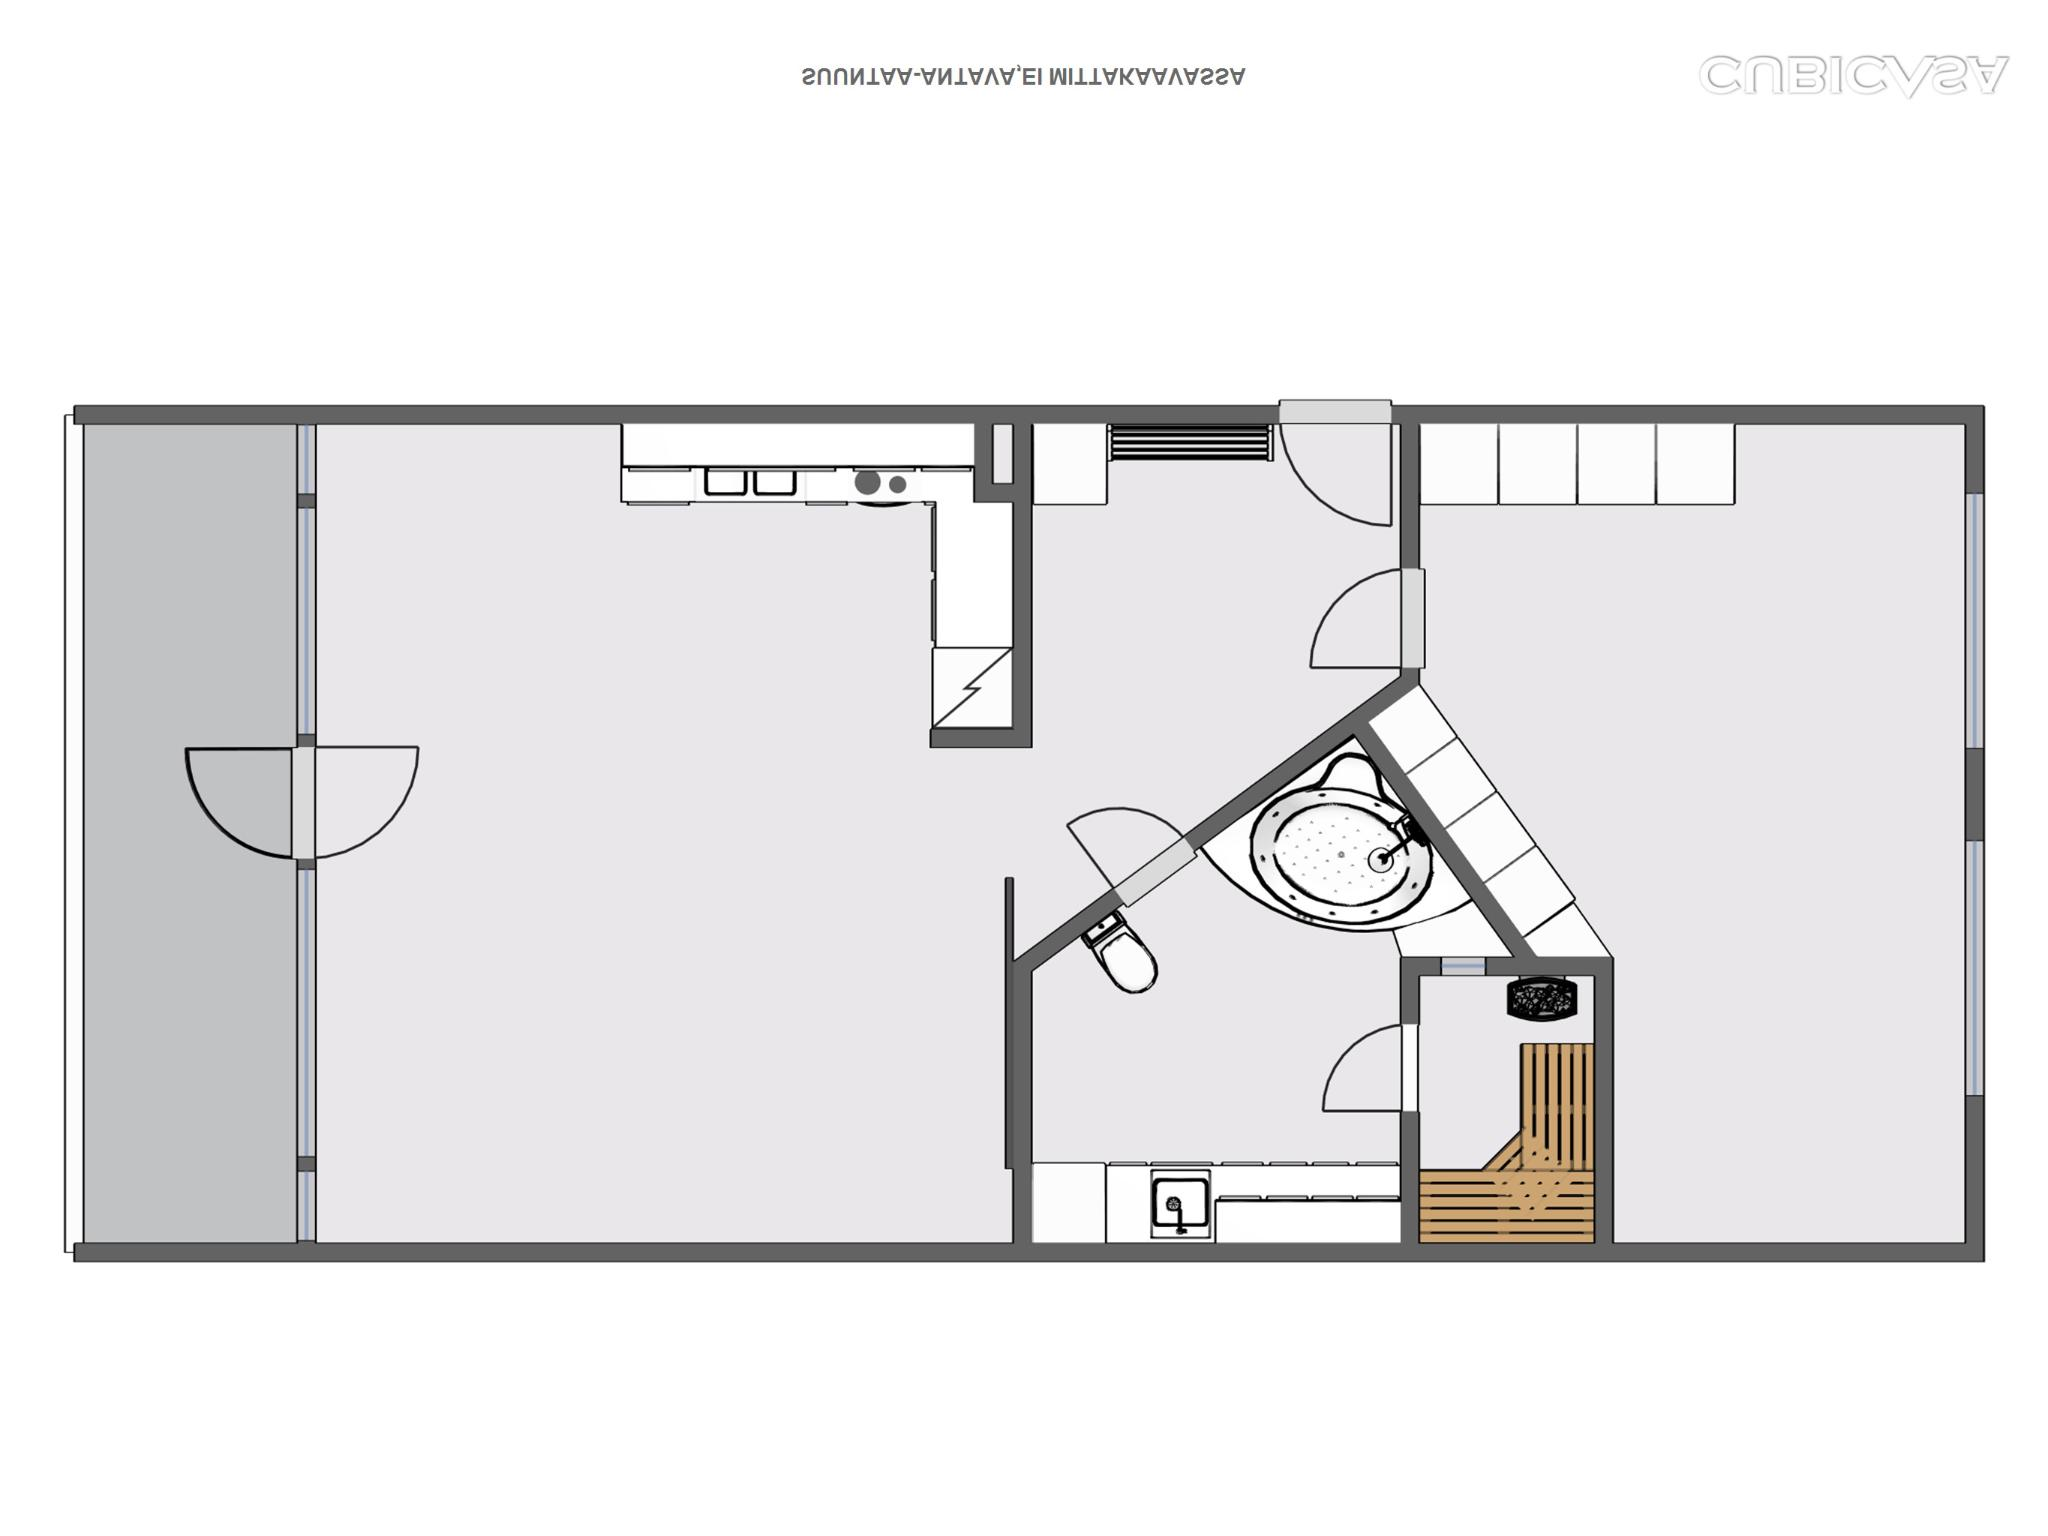door: (1268, 389, 1405, 531), (176, 737, 314, 865), (287, 737, 429, 860), (1063, 794, 1195, 910), (1301, 566, 1432, 679), (1314, 1020, 1426, 1121)
window: (1958, 471, 1995, 768), (289, 858, 323, 1173), (1956, 820, 1992, 1113), (285, 499, 326, 749), (287, 1160, 323, 1255), (292, 415, 321, 505), (1432, 950, 1496, 984)
